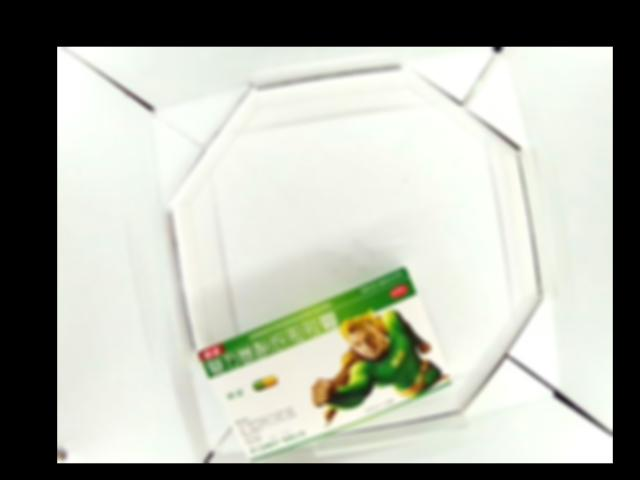Medicine: (193, 265, 453, 460)
